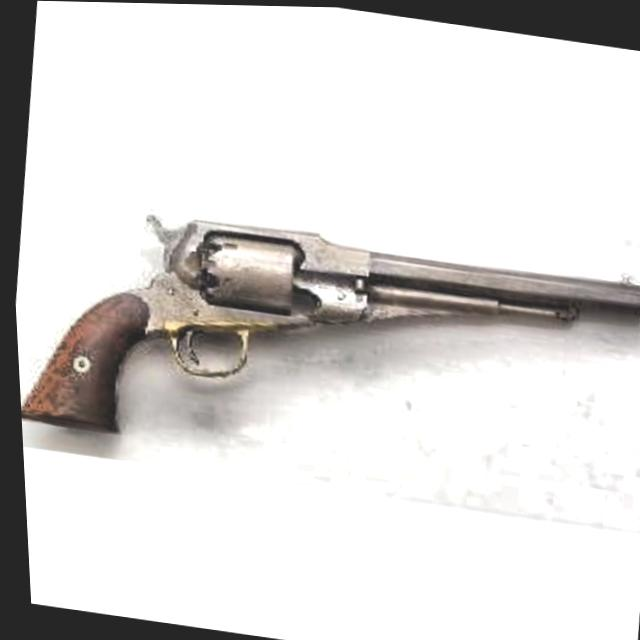pistol: (7, 182, 640, 503)
